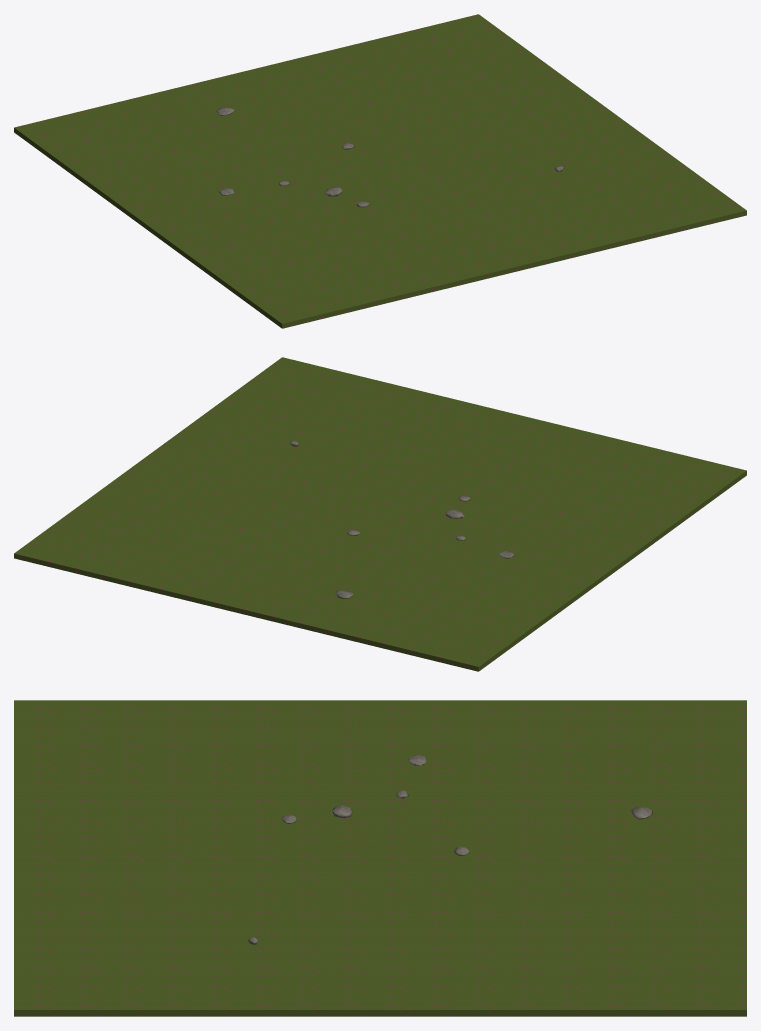
File: SM_Art_GroundTile_earth.gltf
3 renders of one model, top to bottom at view 1: azimuth 30°, elevation 25°; view 2: azimuth 150°, elevation 25°; view 3: azimuth 270°, elevation 25°, orthographic. The views are drawn at different scales.
Visible parts, largest first — view 1: SM_Art_GroundTile_earth; view 2: SM_Art_GroundTile_earth; view 3: SM_Art_GroundTile_earth.
Part boxes in pixels (bbox=[...]): SM_Art_GroundTile_earth: bbox=[14, 14, 746, 328]; SM_Art_GroundTile_earth: bbox=[14, 357, 746, 671]; SM_Art_GroundTile_earth: bbox=[14, 700, 746, 1016].
Bounding box in the file's own units: 50 × 1 × 50.
Materials: 2 (2 with a texture image).
